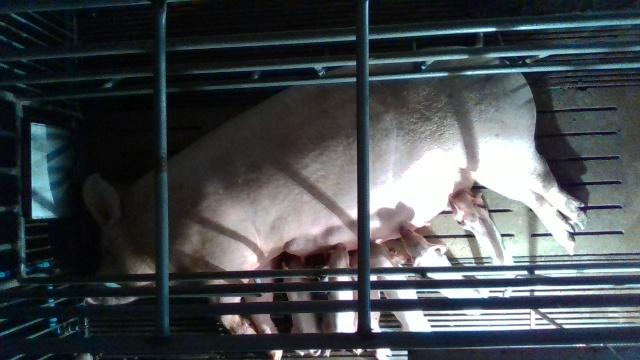piglet: (398, 225, 483, 315), (370, 241, 432, 331), (450, 192, 514, 265), (321, 242, 358, 357), (281, 257, 322, 360)
sow-sleep-lactate: (84, 47, 586, 360)
